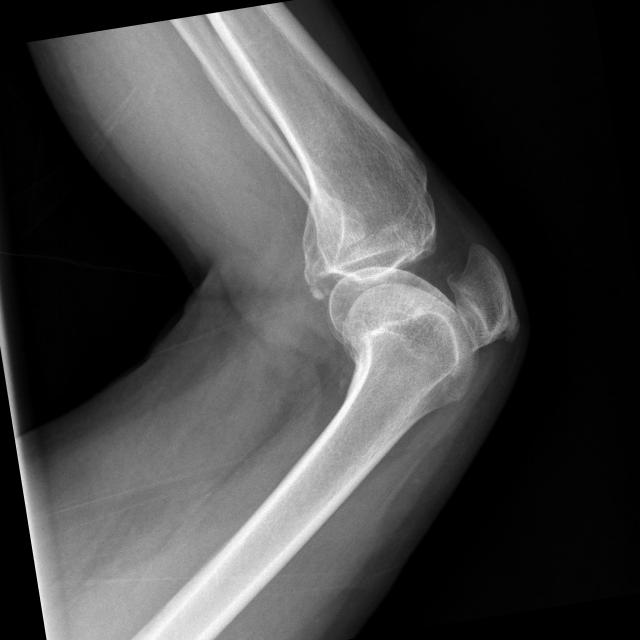Knee: (301, 174, 521, 378)
